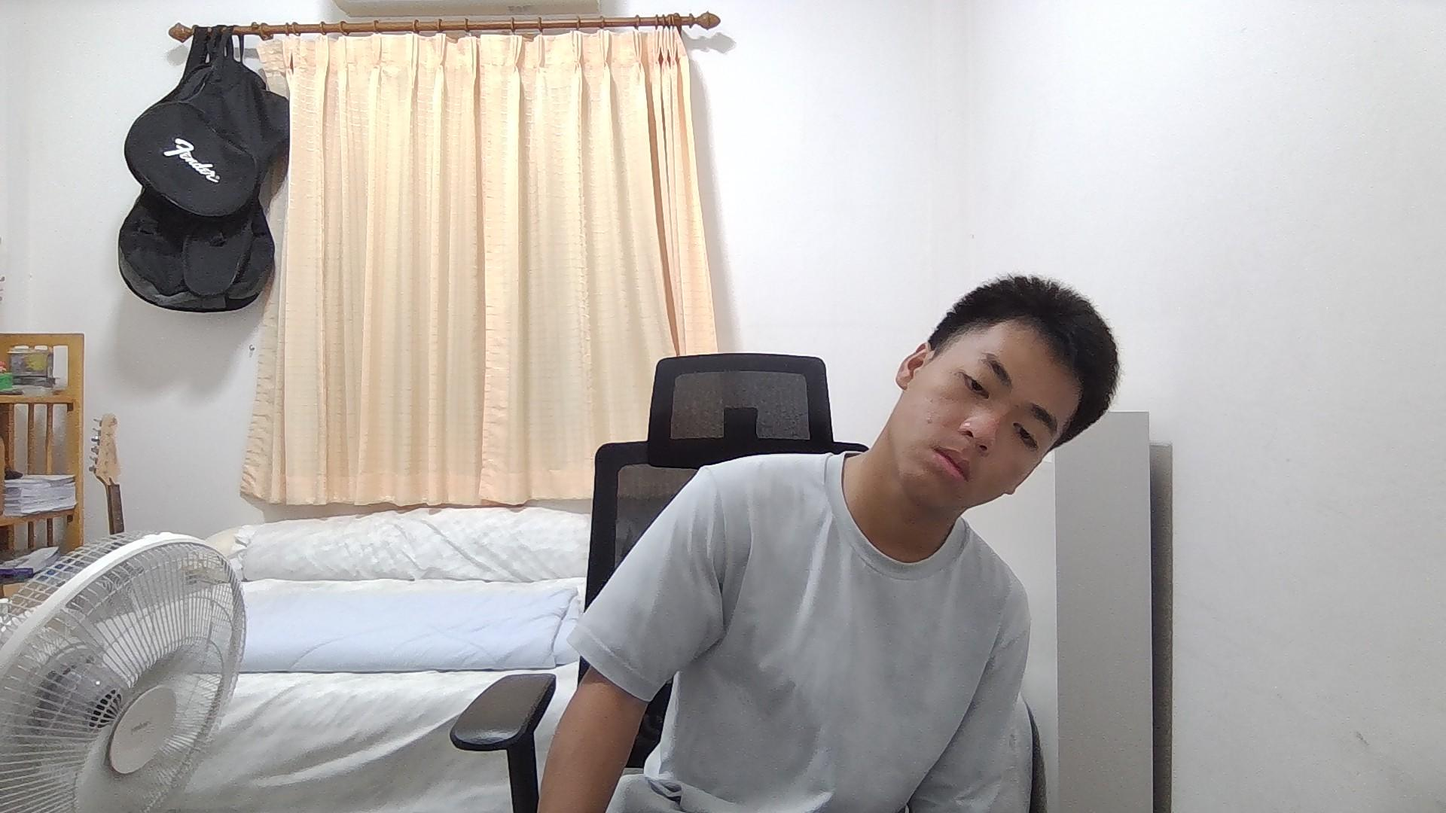BadPosture: (539, 277, 1117, 812)
